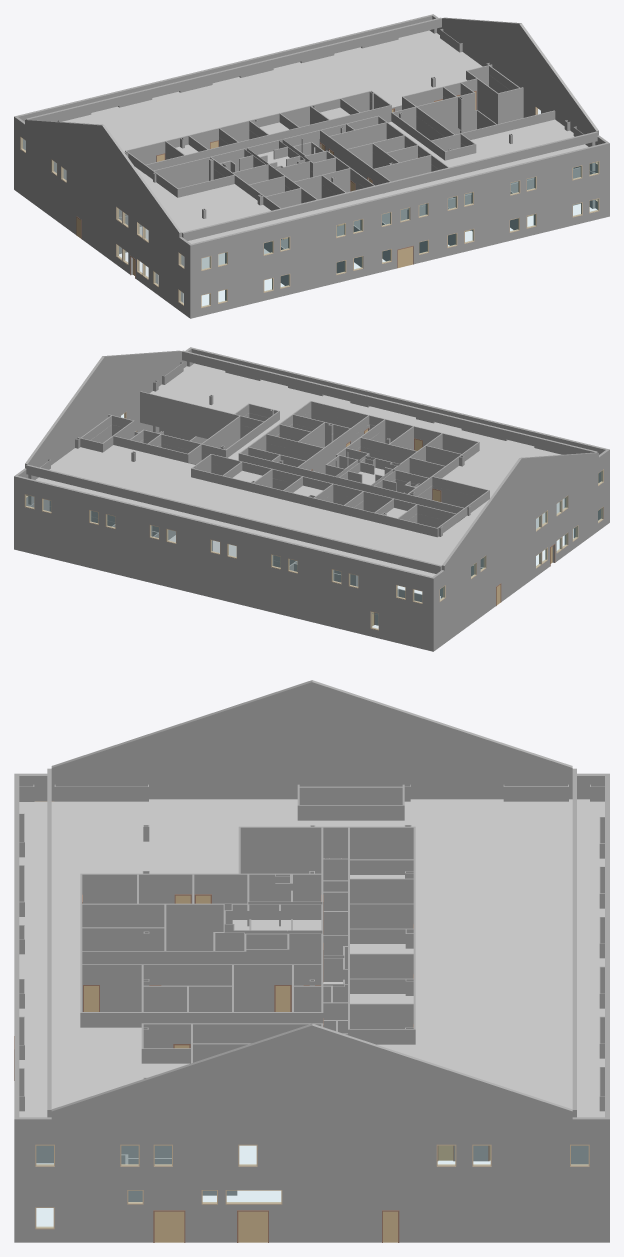
File: Office.glb
3 views of the same model, one above another, from view 1: azimuth 30°, elevation 25°; view 2: azimuth 150°, elevation 25°; view 3: azimuth 270°, elevation 25° (orthographic). The views are drawn at different scales.
Parts seen in each view (by area): view 1: product-0f220645-9de0-4604-93cd-7165de3f6ce9-body, product-6501860e-4416-449b-bfed-88cc2dd0b7c2-body, product-6501860e-4416-449b-bfed-88cc2dd0b5ec-body, product-0f220645-9de0-4604-93cd-7165de3f6fa5-body, product-6501860e-4416-449b-bfed-88cc2dd0b65d-body, product-4bfa8bf0-ebd1-41b2-8d19-9fe5980bc1c0-body, product-4bfa8bf0-ebd1-41b2-8d19-9fe5980bc146-body, product-6501860e-4416-449b-bfed-88cc2dd0b5ae-body, product-4bfa8bf0-ebd1-41b2-8d19-9fe5980bc532-body, product-4bfa8bf0-ebd1-41b2-8d19-9fe5980bc291-body, product-c3a3074e-63e1-4007-827c-d57191dd17b6-body, product-6501860e-4416-449b-bfed-88cc2dd0b388-body (+26 smaller); view 2: product-6501860e-4416-449b-bfed-88cc2dd088a4-body, product-0f220645-9de0-4604-93cd-7165de3f6ce9-body, product-6501860e-4416-449b-bfed-88cc2dd0b54d-body, product-0f220645-9de0-4604-93cd-7165de3f6fa5-body, product-6501860e-4416-449b-bfed-88cc2dd0b65d-body, product-4bfa8bf0-ebd1-41b2-8d19-9fe5980bc1c0-body, product-4bfa8bf0-ebd1-41b2-8d19-9fe5980bc146-body, product-6501860e-4416-449b-bfed-88cc2dd0b5ae-body, product-4bfa8bf0-ebd1-41b2-8d19-9fe5980bc291-body, product-4bfa8bf0-ebd1-41b2-8d19-9fe5980bc532-body, product-c3a3074e-63e1-4007-827c-d57191dd2762-body, product-c3a3074e-63e1-4007-827c-d57191dd216c-body (+25 smaller); view 3: product-0f220645-9de0-4604-93cd-7165de3f6ce9-body, product-0f220645-9de0-4604-93cd-7165de3f6fa5-body, product-6501860e-4416-449b-bfed-88cc2dd0b76d-body, product-4bfa8bf0-ebd1-41b2-8d19-9fe5980bc1c0-body, product-4bfa8bf0-ebd1-41b2-8d19-9fe5980bc146-body, product-6501860e-4416-449b-bfed-88cc2dd0b53e-body, product-c3a3074e-63e1-4007-827c-d57191dd27db-body, product-6501860e-4416-449b-bfed-88cc2dd0b5ae-body, product-c3a3074e-63e1-4007-827c-d57191dd1406-body, product-c3a3074e-63e1-4007-827c-d57191dd11c6-body, product-6b1f4f0f-ce5a-40d2-aa99-fb36b1dfec10-body, product-c3a3074e-63e1-4007-827c-d57191dd1bf8-body (+28 smaller).
Boxes of the visible parts, left/top/right/bottom form: product-0f220645-9de0-4604-93cd-7165de3f6ce9-body: left=62, top=30, right=482, bottom=188; product-6501860e-4416-449b-bfed-88cc2dd0b7c2-body: left=189, top=180, right=607, bottom=318; product-6501860e-4416-449b-bfed-88cc2dd0b5ec-body: left=189, top=148, right=607, bottom=281; product-0f220645-9de0-4604-93cd-7165de3f6fa5-body: left=150, top=119, right=588, bottom=243; product-6501860e-4416-449b-bfed-88cc2dd0b65d-body: left=15, top=154, right=188, bottom=317; product-4bfa8bf0-ebd1-41b2-8d19-9fe5980bc1c0-body: left=25, top=119, right=181, bottom=241; product-4bfa8bf0-ebd1-41b2-8d19-9fe5980bc146-body: left=442, top=17, right=598, bottom=135; product-6501860e-4416-449b-bfed-88cc2dd0b5ae-body: left=15, top=122, right=188, bottom=280; product-4bfa8bf0-ebd1-41b2-8d19-9fe5980bc532-body: left=182, top=131, right=597, bottom=240; product-4bfa8bf0-ebd1-41b2-8d19-9fe5980bc291-body: left=26, top=17, right=441, bottom=121; product-c3a3074e-63e1-4007-827c-d57191dd17b6-body: left=125, top=90, right=371, bottom=164; product-6501860e-4416-449b-bfed-88cc2dd0b388-body: left=189, top=142, right=609, bottom=249; product-6501860e-4416-449b-bfed-88cc2dd088a4-body: left=14, top=512, right=434, bottom=651; product-0f220645-9de0-4604-93cd-7165de3f6ce9-body: left=36, top=445, right=478, bottom=576; product-6501860e-4416-449b-bfed-88cc2dd0b54d-body: left=14, top=480, right=434, bottom=614; product-0f220645-9de0-4604-93cd-7165de3f6fa5-body: left=150, top=363, right=561, bottom=513; product-6501860e-4416-449b-bfed-88cc2dd0b65d-body: left=435, top=487, right=608, bottom=650; product-4bfa8bf0-ebd1-41b2-8d19-9fe5980bc1c0-body: left=442, top=452, right=598, bottom=574; product-4bfa8bf0-ebd1-41b2-8d19-9fe5980bc146-body: left=25, top=350, right=181, bottom=468; product-6501860e-4416-449b-bfed-88cc2dd0b5ae-body: left=435, top=455, right=608, bottom=613; product-4bfa8bf0-ebd1-41b2-8d19-9fe5980bc291-body: left=26, top=464, right=441, bottom=573; product-4bfa8bf0-ebd1-41b2-8d19-9fe5980bc532-body: left=182, top=350, right=597, bottom=454; product-c3a3074e-63e1-4007-827c-d57191dd2762-body: left=140, top=391, right=263, bottom=438; product-c3a3074e-63e1-4007-827c-d57191dd216c-body: left=211, top=454, right=455, bottom=527; product-0f220645-9de0-4604-93cd-7165de3f6ce9-body: left=294, top=799, right=604, bottom=1117; product-0f220645-9de0-4604-93cd-7165de3f6fa5-body: left=19, top=799, right=297, bottom=1117; product-6501860e-4416-449b-bfed-88cc2dd0b76d-body: left=14, top=1180, right=604, bottom=1242; product-4bfa8bf0-ebd1-41b2-8d19-9fe5980bc1c0-body: left=51, top=680, right=572, bottom=783; product-4bfa8bf0-ebd1-41b2-8d19-9fe5980bc146-body: left=51, top=1023, right=572, bottom=1126; product-6501860e-4416-449b-bfed-88cc2dd0b53e-body: left=14, top=1126, right=604, bottom=1180; product-c3a3074e-63e1-4007-827c-d57191dd27db-body: left=82, top=964, right=321, bottom=1011; product-6501860e-4416-449b-bfed-88cc2dd0b5ae-body: left=19, top=783, right=604, bottom=801; product-c3a3074e-63e1-4007-827c-d57191dd1406-body: left=80, top=873, right=297, bottom=903; product-c3a3074e-63e1-4007-827c-d57191dd11c6-body: left=82, top=903, right=223, bottom=950; product-6b1f4f0f-ce5a-40d2-aa99-fb36b1dfec10-body: left=238, top=826, right=323, bottom=873; product-c3a3074e-63e1-4007-827c-d57191dd1bf8-body: left=82, top=1012, right=323, bottom=1027.
Size of the model in its own units: 50.58 by 16.04 by 36.84.
